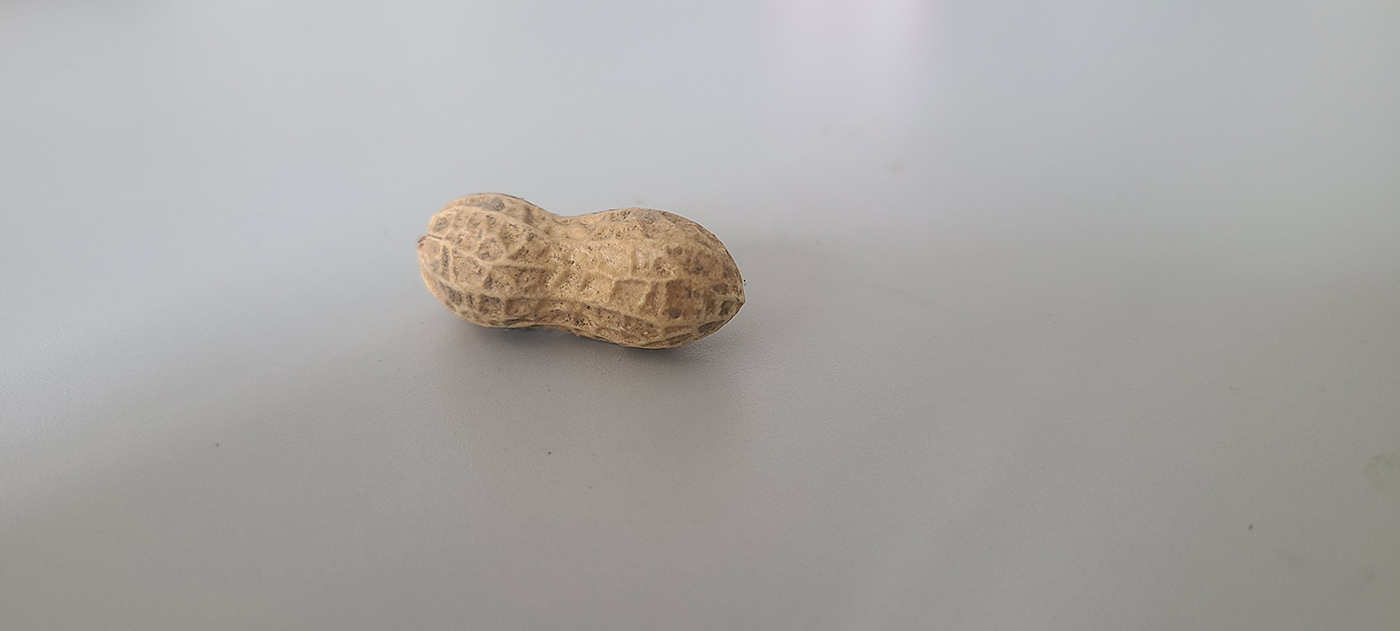h: (414, 189, 747, 353)
